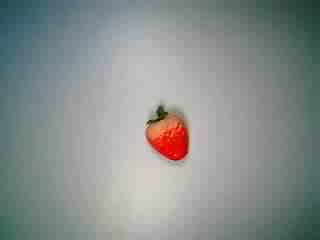strawberry: (131, 101, 199, 165)
